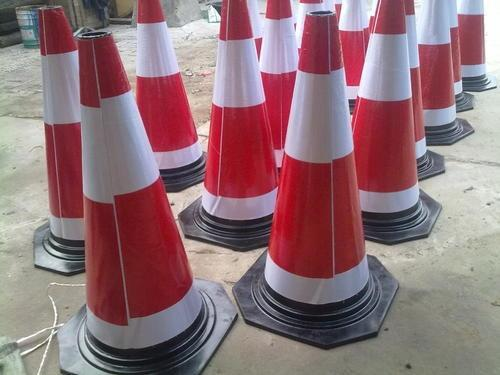cone_barrel: (66, 13, 201, 363), (257, 10, 377, 328), (349, 1, 434, 233), (193, 0, 277, 234), (31, 12, 85, 275), (128, 0, 203, 180), (416, 0, 459, 137), (257, 0, 297, 124), (456, 0, 490, 88)
